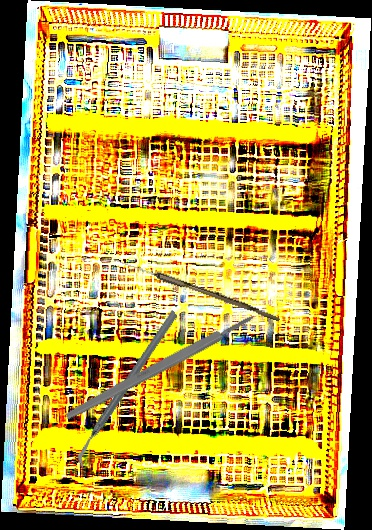Chopper: (35, 308, 220, 471)
Scalpel Handle: (62, 311, 258, 423)
Surgical Spoon: (111, 256, 282, 322)
